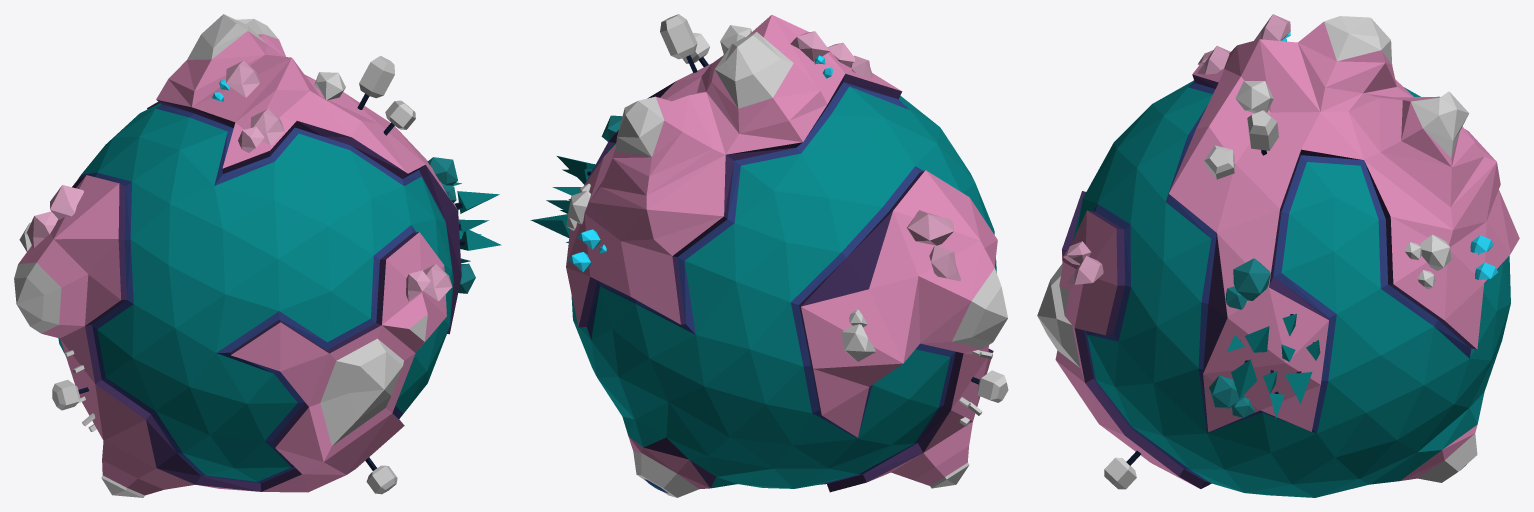
File: watchC_planet04.dae
3 views of the same model, side by side, from view 1: azimuth 30°, elevation 25°; view 2: azimuth 150°, elevation 25°; view 3: azimuth 270°, elevation 25° (orthographic). The views are drawn at different scales.
Visible parts, largest first — view 1: Icosphere-001; view 2: Icosphere-001; view 3: Icosphere-001.
Part boxes in pixels (x1=…): Icosphere-001: x1=14, y1=14, x2=501, y2=497; Icosphere-001: x1=530, y1=14, x2=1008, y2=497; Icosphere-001: x1=1037, y1=14, x2=1519, y2=497.
Bounding box in the file's own units: 2.6 × 2.31 × 2.17.
